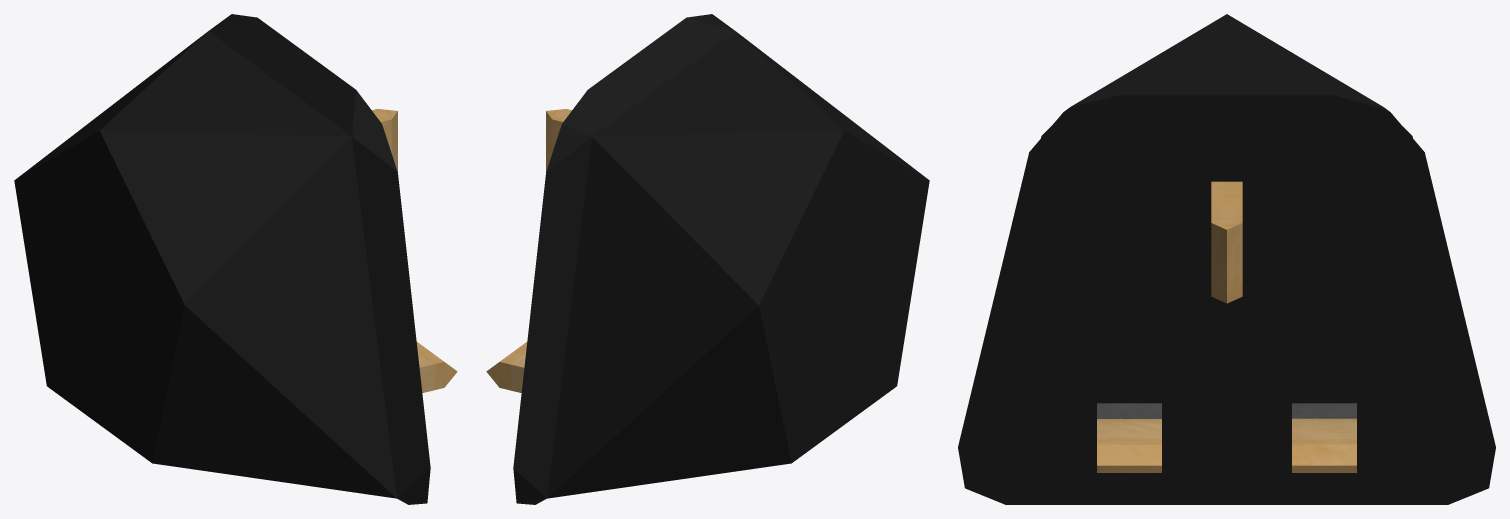
Rendered from SocketAndPlug.fbx.
3 views of the same model, side by side, from view 1: azimuth 30°, elevation 25°; view 2: azimuth 150°, elevation 25°; view 3: azimuth 270°, elevation 25° (orthographic). The views are drawn at different scales.
Visible parts, largest first — view 1: In, Out; view 2: In, Out; view 3: In, Out.
Part boxes in pixels (x1,y1,x2,y2): In: (57,14,457,498); Out: (14,31,430,504); In: (486,14,854,498); Out: (513,31,929,504); In: (958,14,1495,503); Out: (958,14,1495,504).
Bounding box in the file's own units: 46.05 × 55.59 × 66.17.
